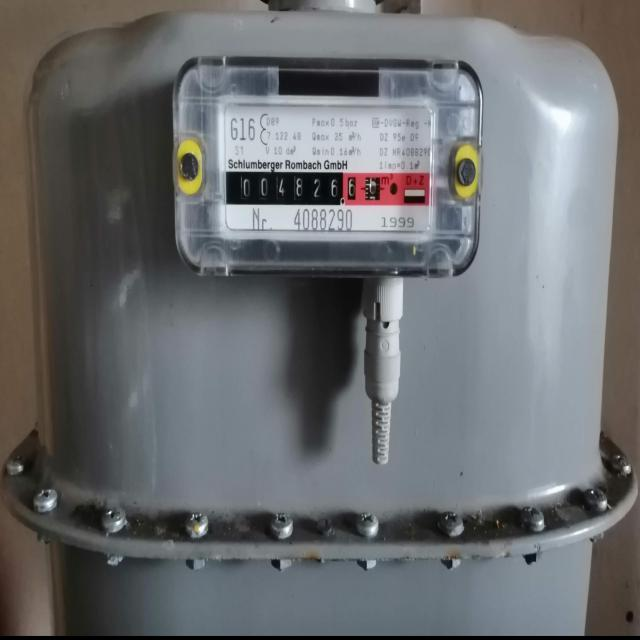gaz_meter: (216, 87, 431, 235)
indication: (225, 171, 381, 206)
